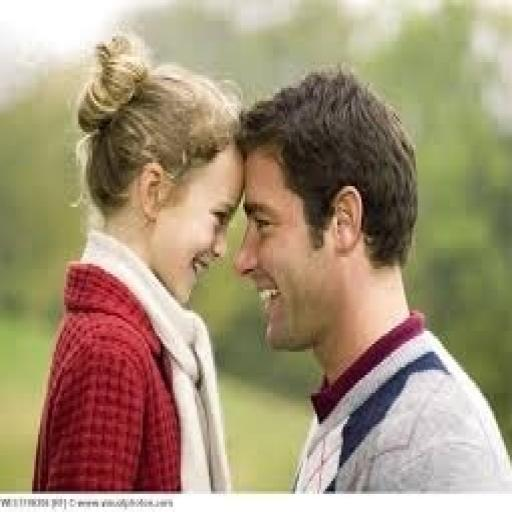hugging: (233, 65, 510, 494), (30, 31, 247, 494)
